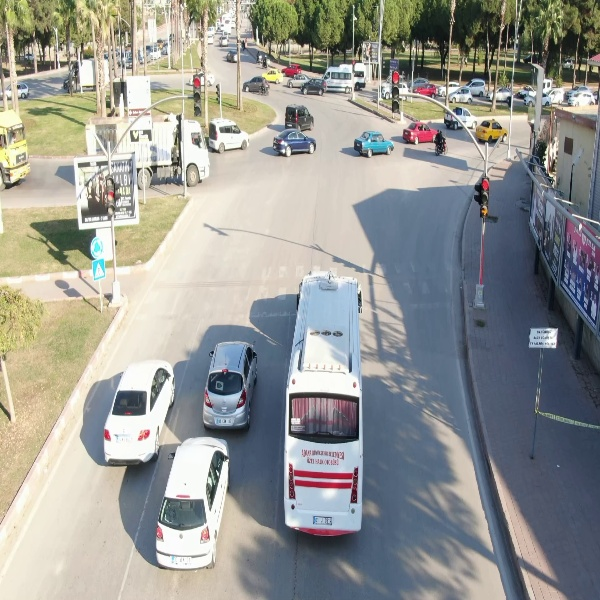car: (280, 272, 365, 538), (153, 435, 230, 573), (101, 356, 176, 469), (200, 339, 259, 434), (208, 115, 253, 155), (271, 128, 317, 158), (352, 129, 395, 158), (473, 116, 511, 143), (401, 120, 440, 145), (242, 75, 269, 96), (446, 85, 474, 105), (299, 77, 328, 96), (567, 89, 596, 108)
